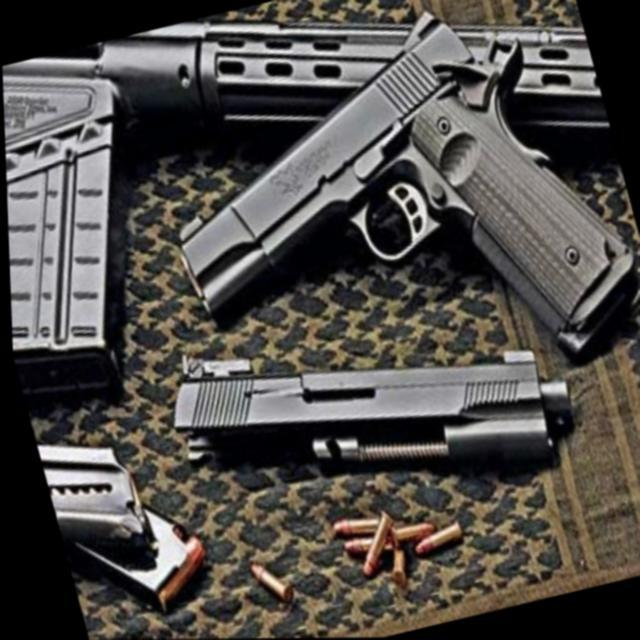weapon: (0, 0, 640, 393), (128, 0, 640, 442), (150, 270, 586, 548), (24, 378, 212, 630)
